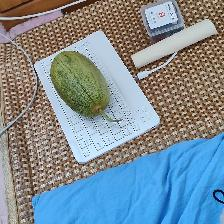gua: (52, 55, 118, 116)
